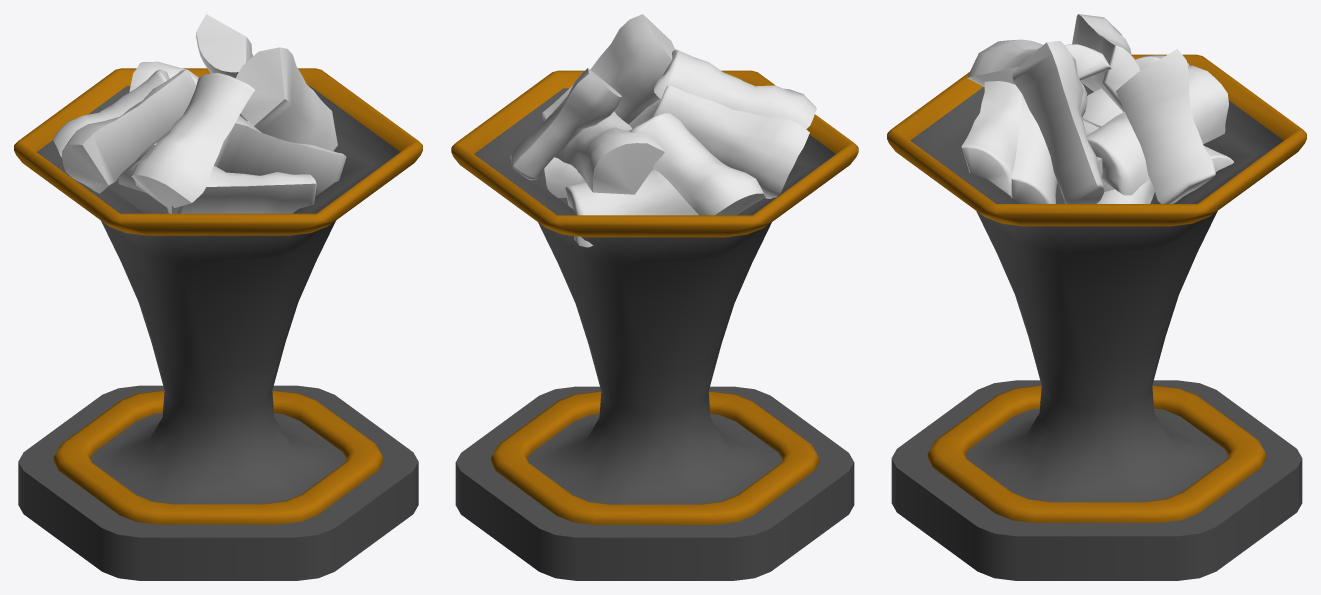
The model's file is Braciere.fbx.
3 renders of one model, left to right at view 1: azimuth 30°, elevation 25°; view 2: azimuth 150°, elevation 25°; view 3: azimuth 270°, elevation 25°, orthographic. The views are drawn at different scales.
Parts seen in each view (by area): view 1: Braciere, Legno.008, Legno.006, Legno.007, Legno.003, Legno.002, Legno.010, Legno.009, Legno.004; view 2: Braciere, Legno.006, Legno.009, Legno.004, Legno.007, Legno.008, Legno.010, Legno.001, Legno.005; view 3: Braciere, Legno.010, Legno.007, Legno.004, Legno.002, Legno.003, Legno.006, Legno.008, Legno.001, Legno.005.
Part boxes in pixels (left/top/right/bottom): Braciere: left=14, top=68, right=422, bottom=580; Legno.008: left=131, top=73, right=254, bottom=209; Legno.006: left=62, top=70, right=196, bottom=193; Legno.007: left=235, top=47, right=337, bottom=151; Legno.003: left=214, top=115, right=346, bottom=196; Legno.002: left=167, top=165, right=316, bottom=213; Legno.010: left=196, top=14, right=252, bottom=78; Legno.009: left=53, top=69, right=169, bottom=157; Legno.004: left=129, top=61, right=247, bottom=121; Braciere: left=451, top=70, right=858, bottom=580; Legno.006: left=652, top=85, right=809, bottom=198; Legno.009: left=629, top=112, right=765, bottom=215; Legno.004: left=554, top=111, right=664, bottom=194; Legno.007: left=542, top=14, right=675, bottom=124; Legno.008: left=653, top=49, right=816, bottom=129; Legno.010: left=510, top=68, right=621, bottom=180; Legno.001: left=565, top=168, right=698, bottom=247; Legno.005: left=544, top=157, right=585, bottom=197; Braciere: left=887, top=54, right=1306, bottom=580; Legno.010: left=1116, top=49, right=1215, bottom=203; Legno.007: left=1012, top=41, right=1104, bottom=203; Legno.004: left=1086, top=65, right=1228, bottom=195; Legno.002: left=961, top=81, right=1021, bottom=195; Legno.003: left=1011, top=83, right=1087, bottom=203; Legno.006: left=1072, top=14, right=1140, bottom=111; Legno.008: left=967, top=39, right=1111, bottom=86; Legno.001: left=1082, top=88, right=1233, bottom=172; Legno.005: left=1097, top=179, right=1154, bottom=203.
Bounding box in the file's own units: 174 × 248 × 197.
